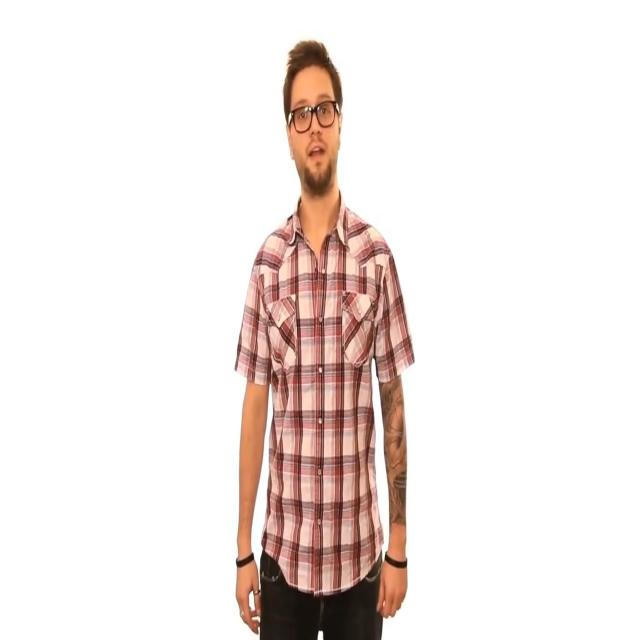shirt: (234, 187, 416, 600)
